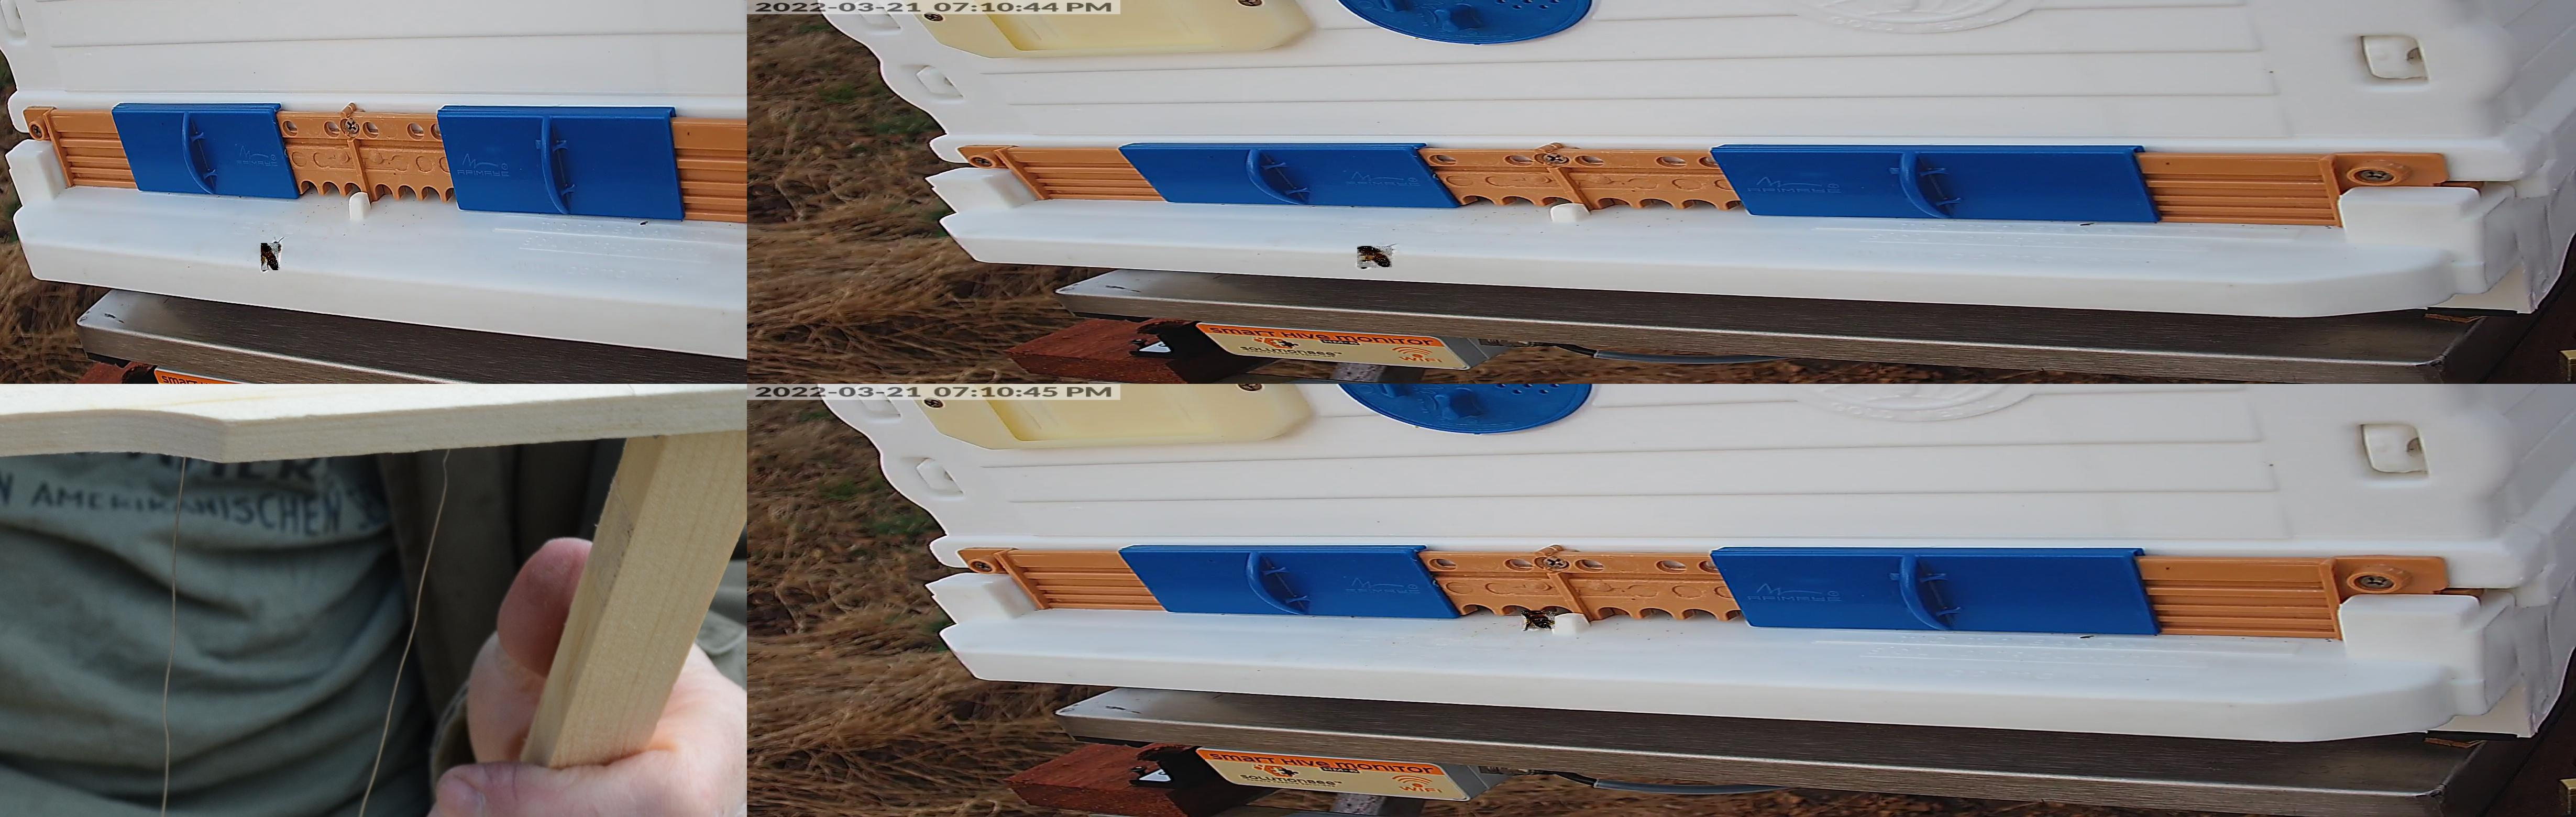pollenbee: (1357, 246, 1393, 269), (1522, 611, 1556, 631), (261, 243, 281, 271)
